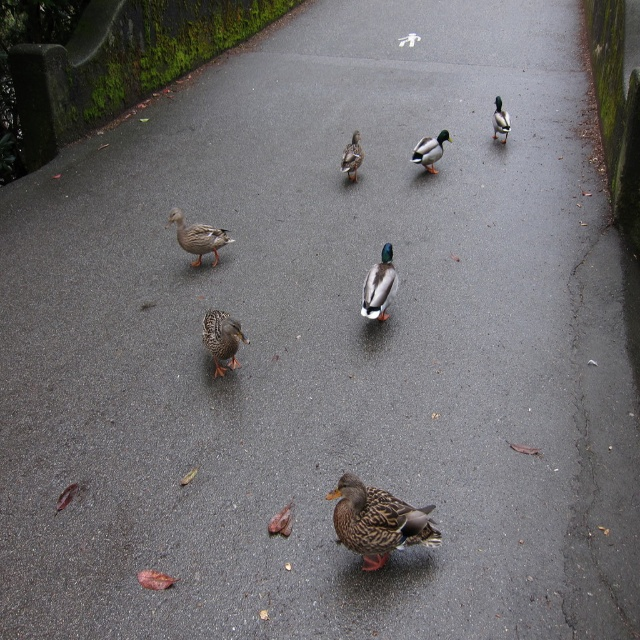Duck: (324, 464, 447, 567), (167, 206, 232, 271), (198, 310, 251, 385), (358, 245, 403, 329), (411, 129, 453, 179), (339, 130, 363, 179), (493, 97, 507, 151)
